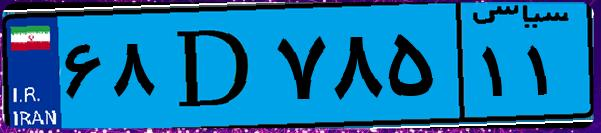1: (475, 38, 525, 113), (525, 38, 570, 115)
5: (385, 28, 445, 110)
6: (57, 26, 110, 100)
7: (270, 28, 330, 110)
8: (330, 28, 385, 110), (110, 28, 158, 98)
D: (158, 12, 270, 120)
